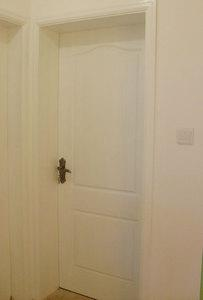door: (54, 28, 143, 298)
